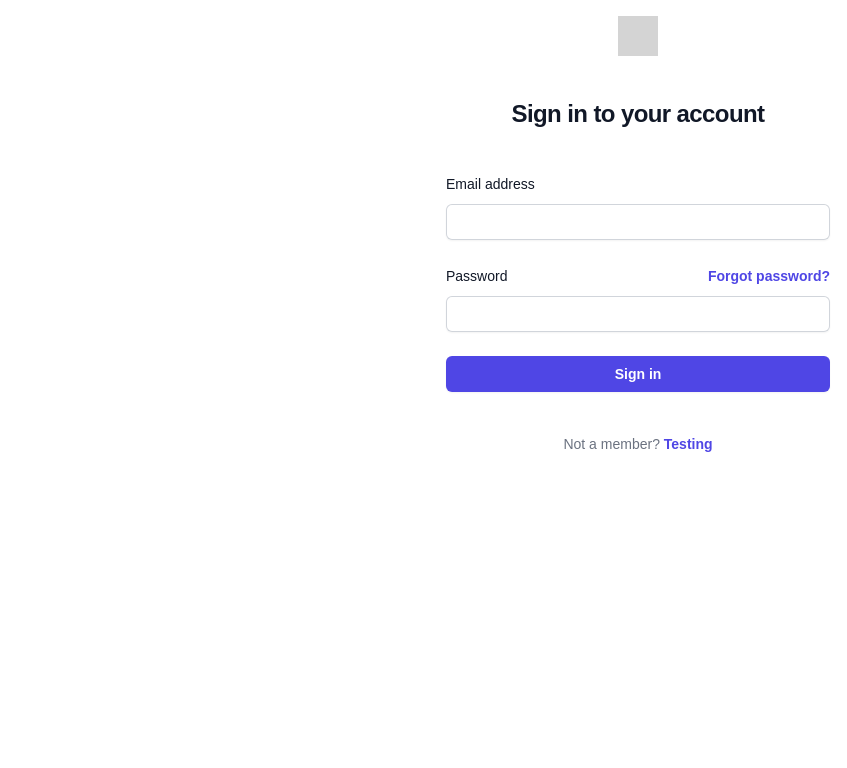
Test case: Login Page › should display an error message for invalid credentials
Fill in the email and password
Type "wrong@example.com" into the field named "email" at (638, 222), box left=446, top=204, right=830, bottom=240
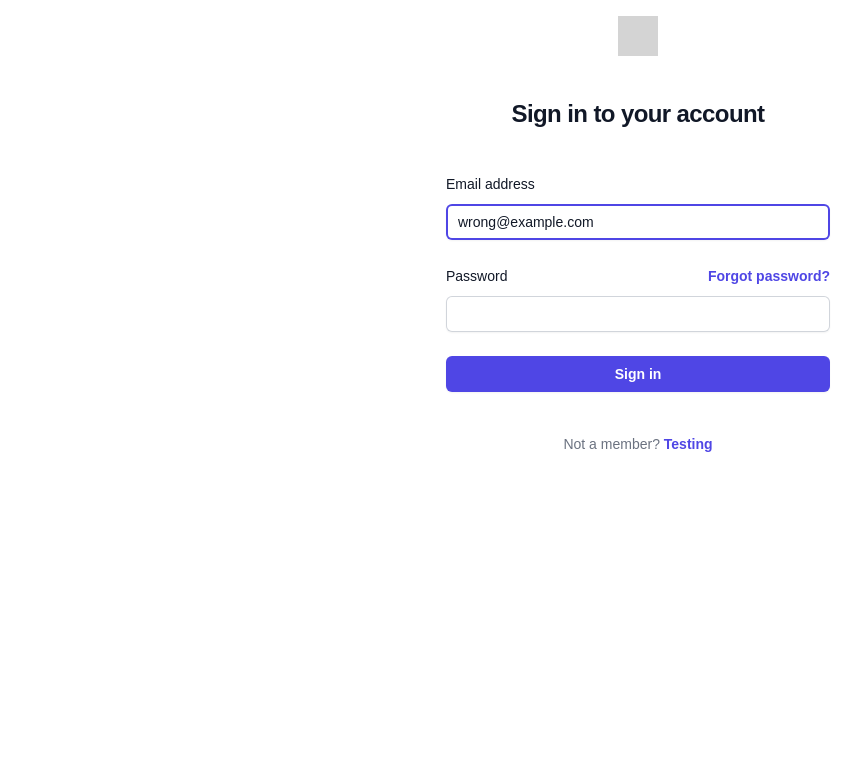
Type "wrongpassword" into the password field named "password" at (638, 314), box left=446, top=296, right=830, bottom=332
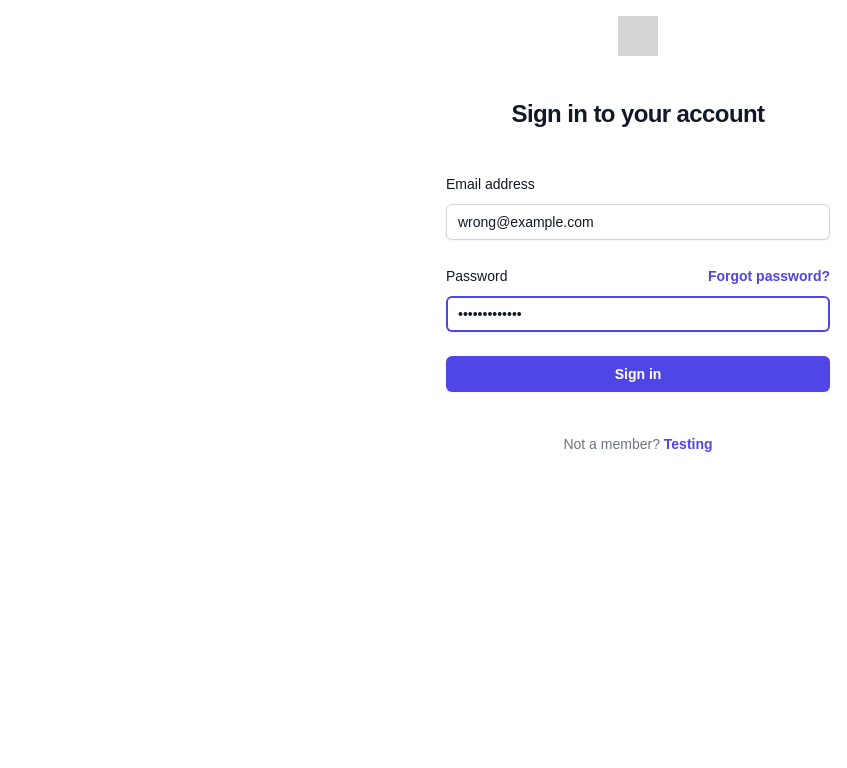
Click the submit button at (638, 374), box left=446, top=356, right=830, bottom=392
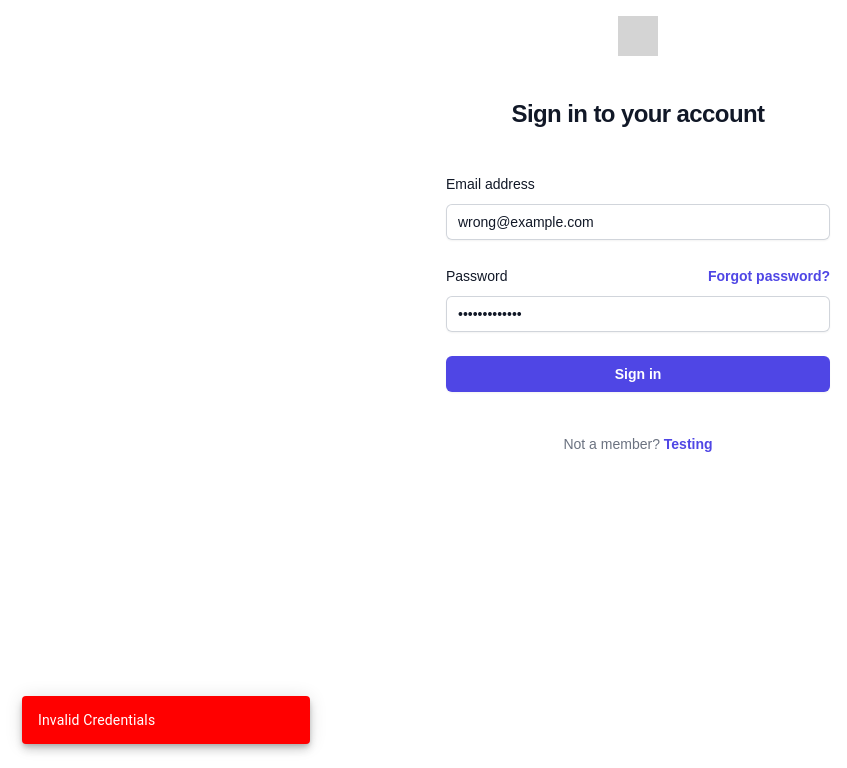
Result: the text "Invalid Credentials" is shown at left=38, top=712, right=155, bottom=728
